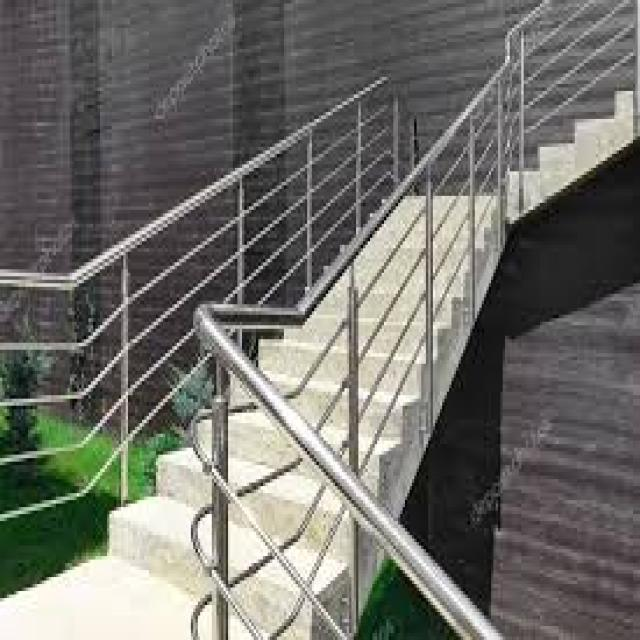upstair: (1, 193, 494, 637)
